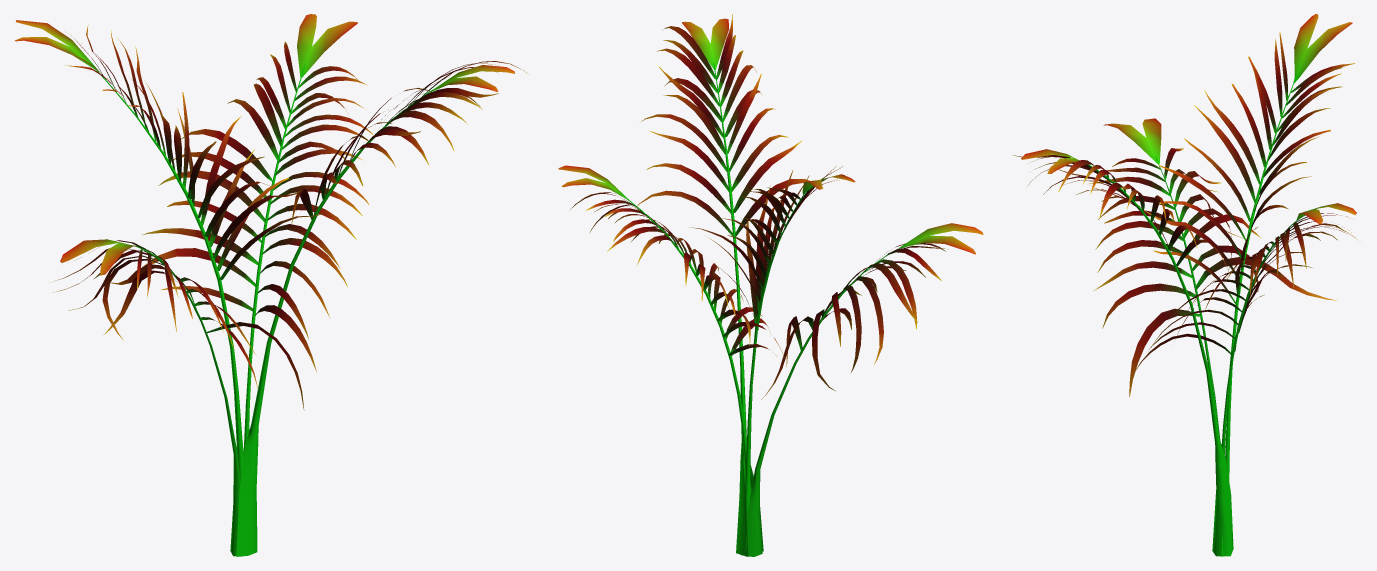
Rendered from Alexandra Palm_LOD3_Var4_ukgkcilia.fbx.
The picture shows the model from 3 angles, left to right: view 1: azimuth 30°, elevation 25°; view 2: azimuth 150°, elevation 25°; view 3: azimuth 270°, elevation 25°; orthographic projection. The views are drawn at different scales.
Parts seen in each view (by area): view 1: _jy7f_Var4_LOD3; view 2: _jy7f_Var4_LOD3; view 3: _jy7f_Var4_LOD3.
Part boxes in pixels (bbox=[...]): _jy7f_Var4_LOD3: bbox=[15, 14, 528, 556]; _jy7f_Var4_LOD3: bbox=[558, 14, 983, 556]; _jy7f_Var4_LOD3: bbox=[1013, 14, 1357, 556].
Bounding box in the file's own units: 39.75 × 46.95 × 32.28.
